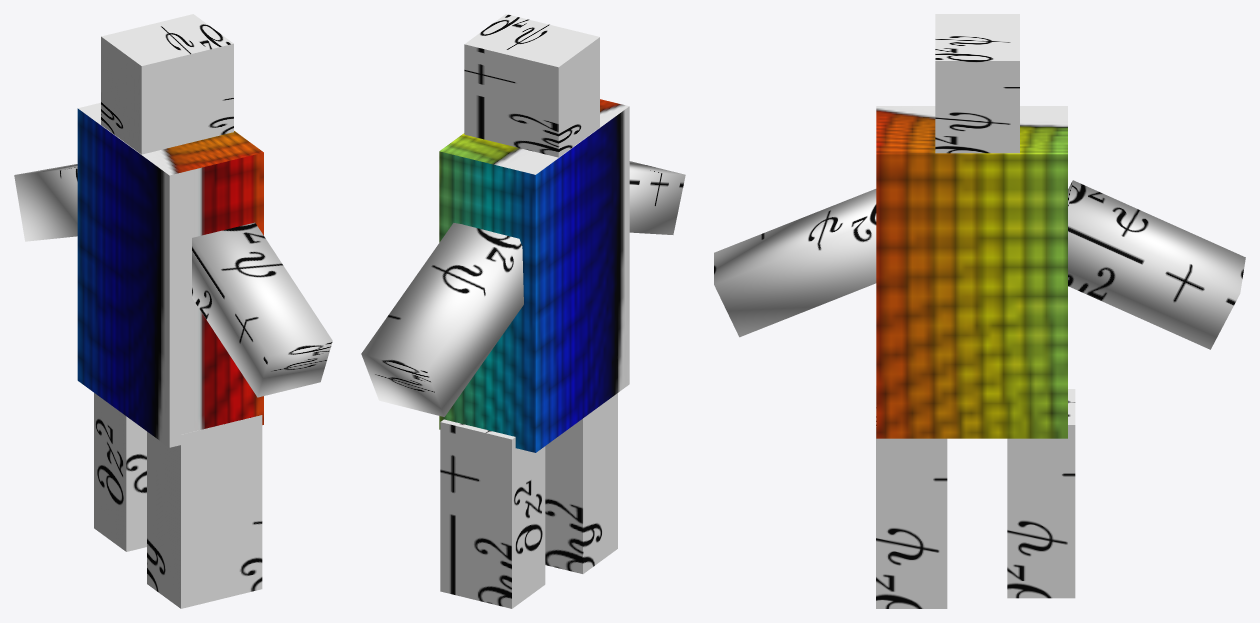
The model's file is perso.glb.
3 renders of one model, left to right at view 1: azimuth 30°, elevation 25°; view 2: azimuth 150°, elevation 25°; view 3: azimuth 270°, elevation 25°, orthographic. The views are drawn at different scales.
Parts seen in each view (by area): view 1: Cube.002, Cube.001, Cube.004, Cube.003, Cube, Cube.005; view 2: Cube.002, Cube.005, Cube, Cube.003, Cube.001, Cube.004; view 3: Cube.002, Cube.005, Cube.004, Cube.001, Cube.003, Cube.
Boxes of the visible parts, x1,y1,x2,y2 form: Cube.002: (77, 102, 263, 447); Cube.001: (147, 415, 262, 608); Cube.004: (192, 222, 332, 397); Cube.003: (101, 14, 233, 154); Cube: (94, 393, 146, 551); Cube.005: (14, 164, 77, 241); Cube.002: (439, 99, 629, 452); Cube.005: (361, 223, 523, 416); Cube: (440, 419, 545, 608); Cube.003: (464, 14, 599, 157); Cube.001: (545, 393, 617, 573); Cube.004: (629, 161, 685, 234); Cube.002: (876, 106, 1067, 438); Cube.005: (1068, 180, 1245, 349); Cube.004: (714, 189, 876, 337); Cube.001: (876, 386, 947, 608); Cube.003: (935, 14, 1019, 153); Cube: (1007, 389, 1075, 598).
Size of the model in its own units: 0.4627 by 2.45 by 2.16.
6 materials, 6 textured.
